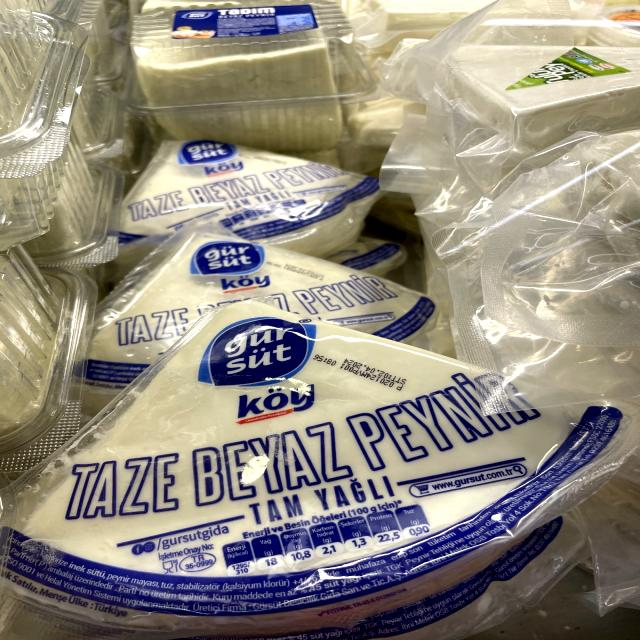cheese: (12, 313, 616, 614), (103, 134, 393, 250), (139, 8, 356, 133)
